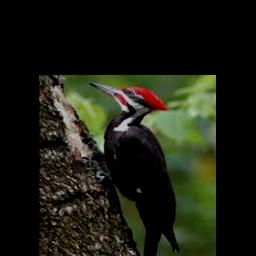Woodpecker: (88, 81, 179, 256)
